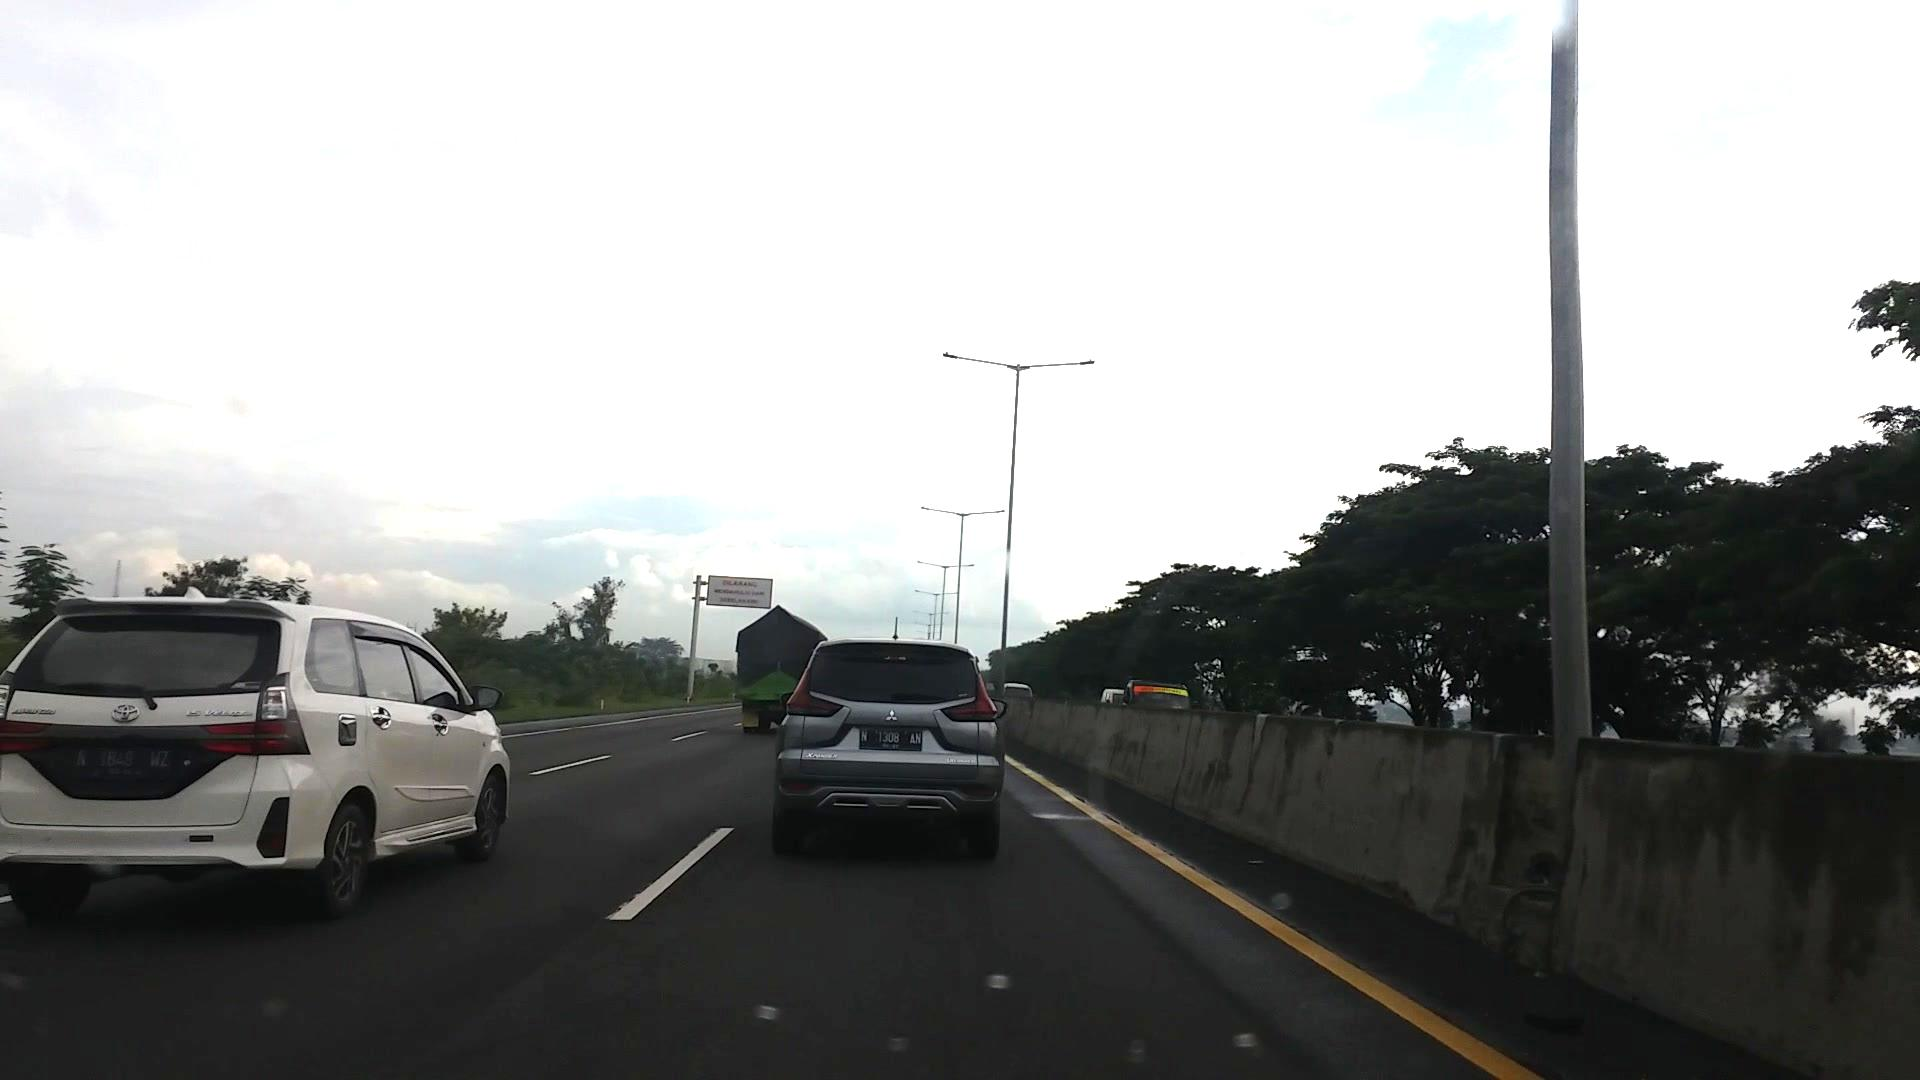plate_positive: (858, 727, 923, 752)
